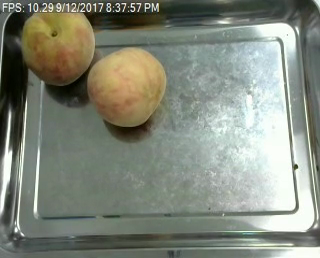Peach: (86, 44, 167, 127), (19, 2, 96, 86)
